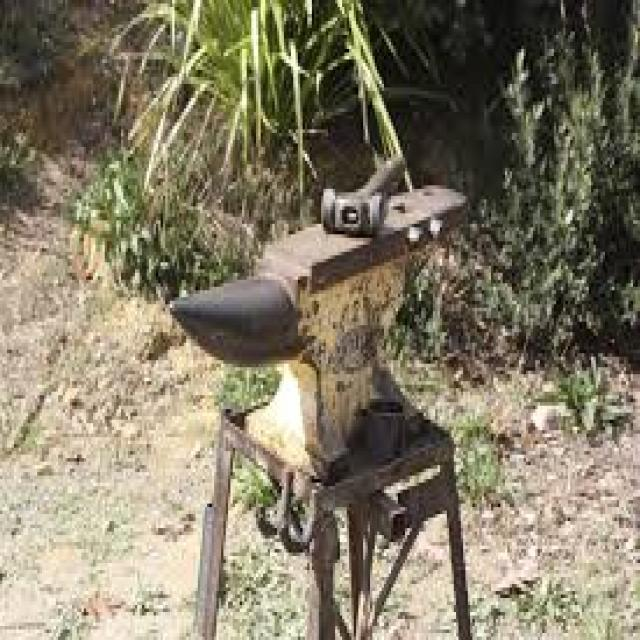hammer: (314, 136, 421, 242)
